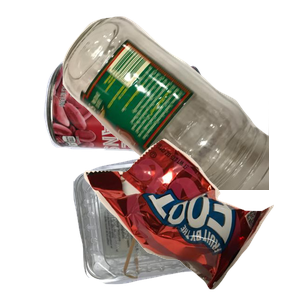glass: (60, 14, 300, 194)
metal: (41, 58, 240, 207)
plastic: (71, 154, 300, 300)
trash: (81, 136, 300, 300)
